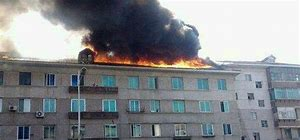smoke: (40, 1, 201, 55)
